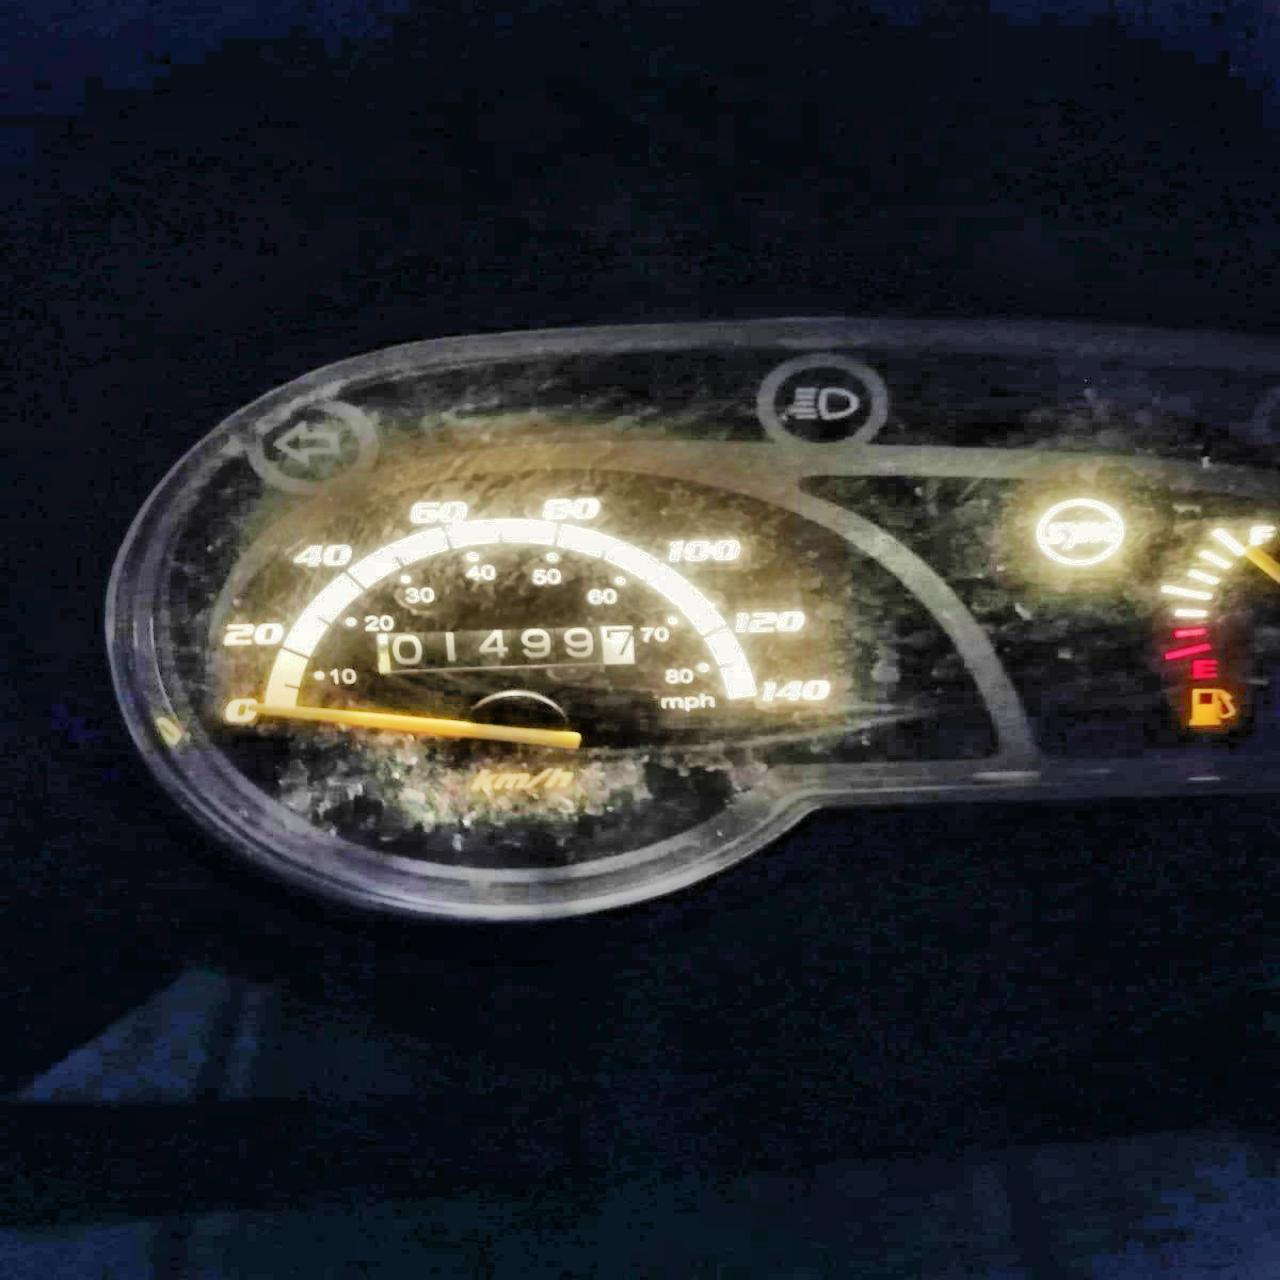0: (389, 633, 427, 666)
1: (440, 628, 459, 663)
4: (475, 627, 511, 659)
7: (605, 627, 636, 658)
9: (561, 626, 594, 660), (517, 627, 552, 659)
odometer: (367, 625, 640, 674)
